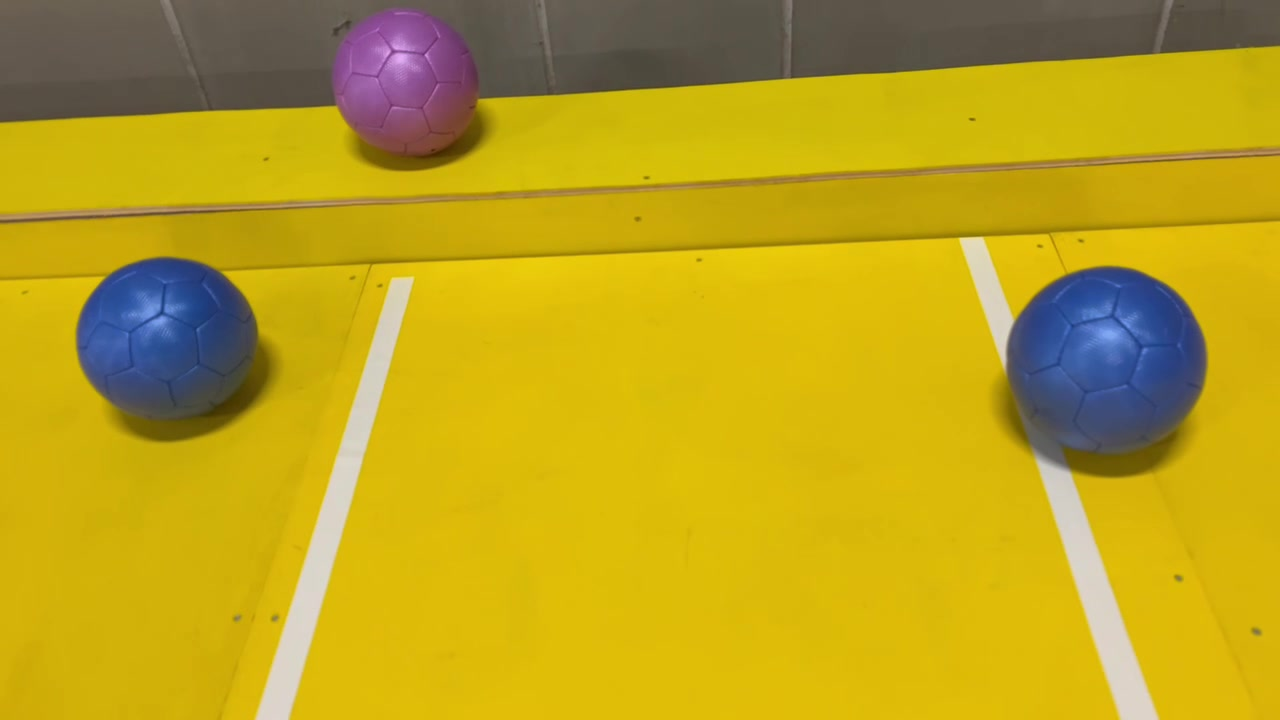blue: (998, 247, 1210, 464), (65, 253, 273, 434)
